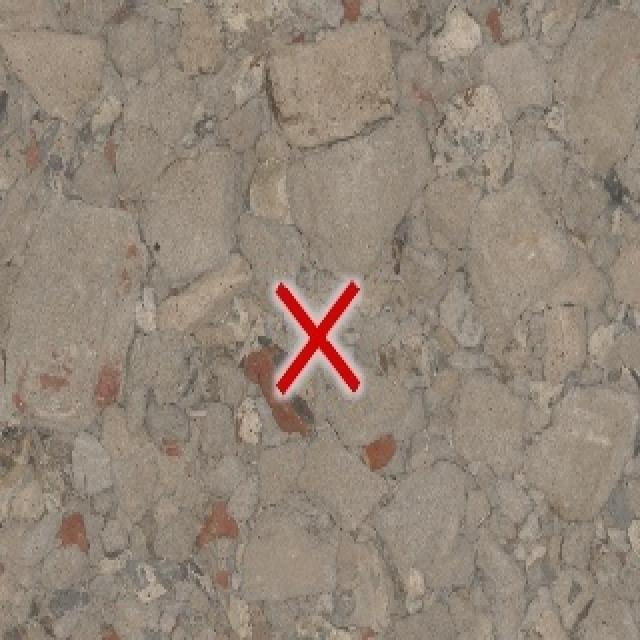x_marker: (275, 282, 359, 394)
